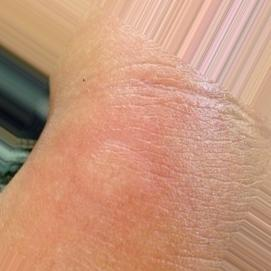Mosquito: (74, 137, 164, 200)
